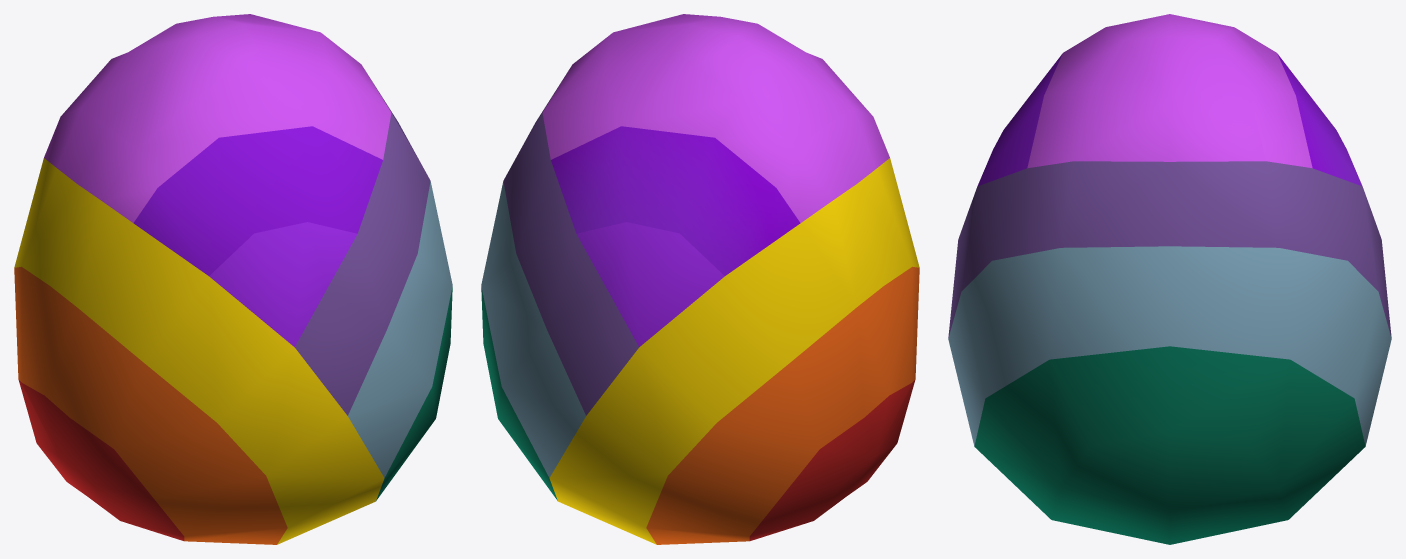
3 renders of one model, left to right at view 1: azimuth 30°, elevation 25°; view 2: azimuth 150°, elevation 25°; view 3: azimuth 270°, elevation 25°, orthographic.
Visible parts, largest first — view 1: model_0.110; view 2: model_0.110; view 3: model_0.110.
Part boxes in pixels (x1,y1,x2,y2): model_0.110: [14, 14, 452, 544]; model_0.110: [481, 14, 919, 544]; model_0.110: [948, 14, 1391, 544].
Bounding box in the file's own units: 3.01 × 3.73 × 3.07.
